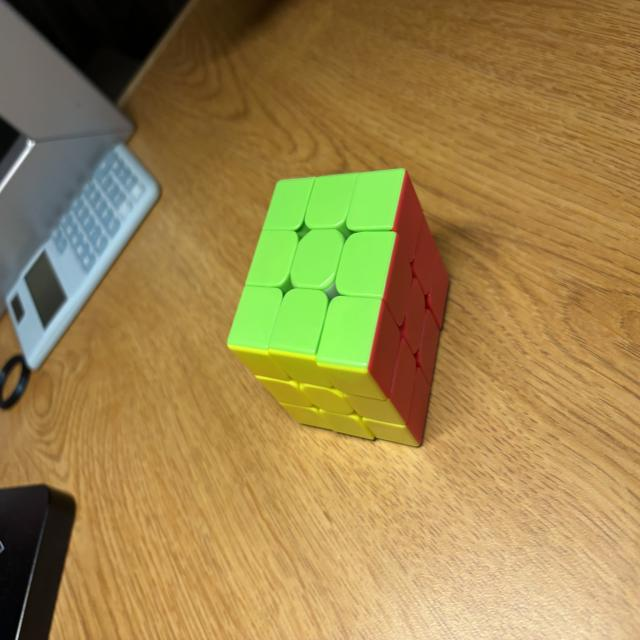Rubiks Cube: (227, 168, 450, 448)
